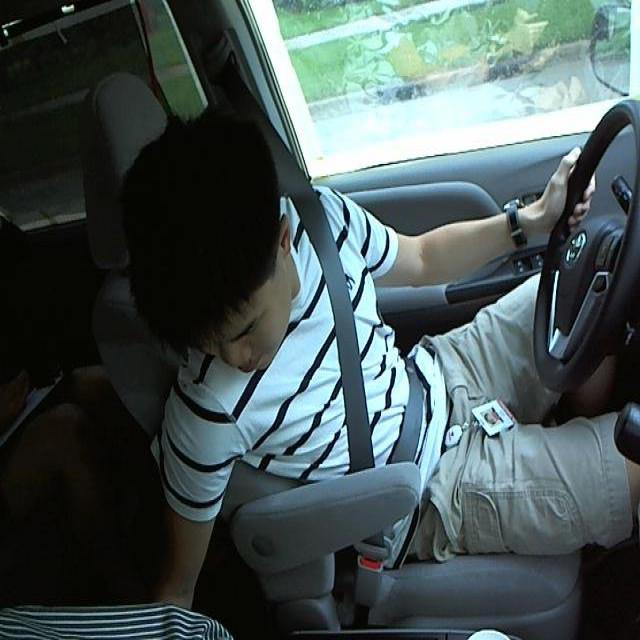seatbelt: (296, 216, 432, 468)
